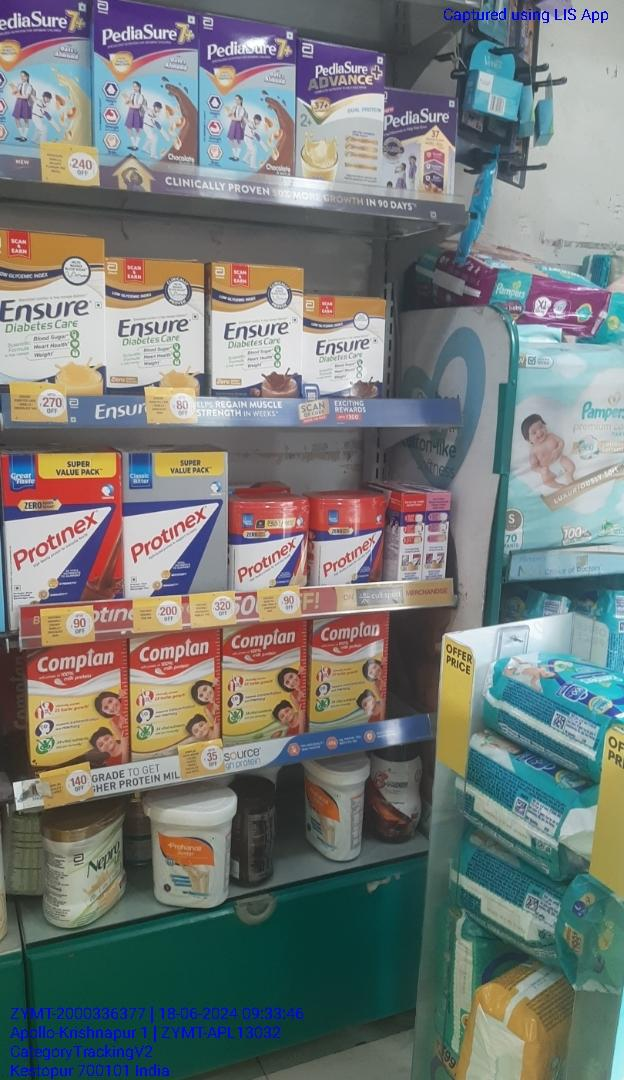COMPLAN_CHOCOLATE_500_GMS_PACK: (26, 639, 130, 767)
COMPLAN_CREAMY_CLASSIC_500_G_PACK: (133, 632, 221, 758), (310, 611, 391, 731)
COMPLAN_PISTA_BADAM_500_GMS_PACK: (225, 618, 307, 745)
PEDIASURE_CHOCOLATE_500_G_PACK: (381, 92, 456, 198)
PROTINEX_VANILLA_400_G_JAR: (309, 488, 388, 580), (231, 498, 309, 590)
